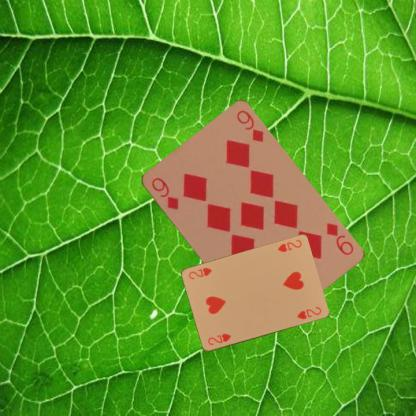2h: (274, 237, 303, 254), (205, 331, 232, 347)
9d: (322, 220, 355, 257), (148, 174, 180, 212)
